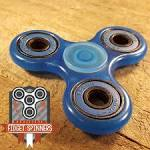fidget_spinner: (1, 3, 148, 136)
